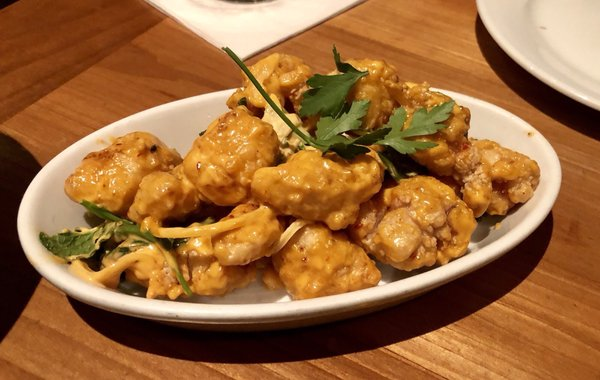curry: (14, 2, 598, 370)
